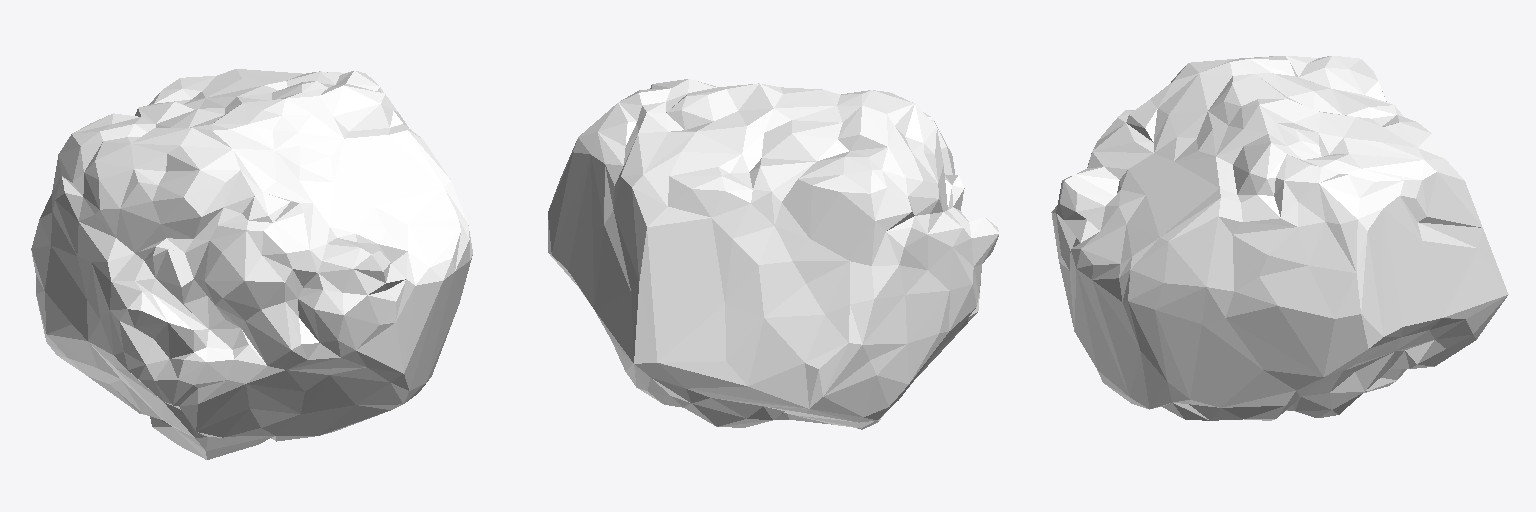
File: rock.obj
3 renders of one model, left to right at view 1: azimuth 30°, elevation 25°; view 2: azimuth 150°, elevation 25°; view 3: azimuth 270°, elevation 25°, orthographic.
Visible parts, largest first — view 1: rock_low.002_Group58368.002; view 2: rock_low.002_Group58368.002; view 3: rock_low.002_Group58368.002.
Boxes of the visible parts, x1=… form: rock_low.002_Group58368.002: x1=31, y1=69, x2=472, y2=459; rock_low.002_Group58368.002: x1=548, y1=79, x2=999, y2=429; rock_low.002_Group58368.002: x1=1051, y1=56, x2=1508, y2=420.
Bounding box in the file's own units: 1.78 × 1.51 × 1.96.